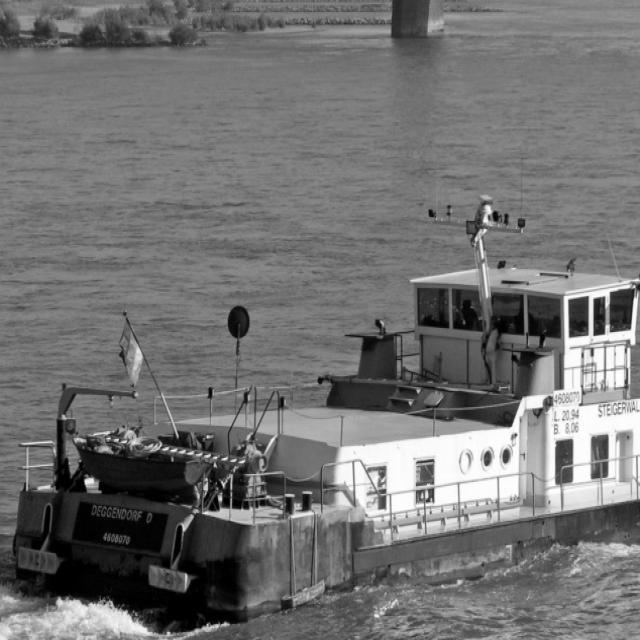tugboat: (4, 192, 640, 640)
